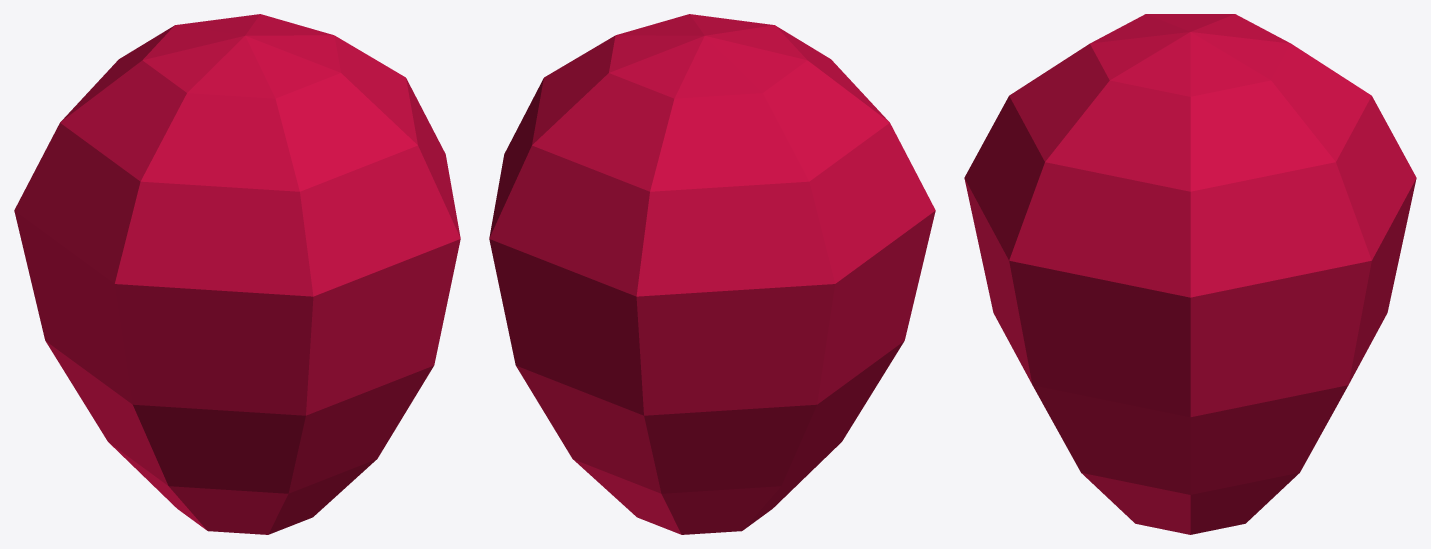
The model's file is bloon2.fbx.
3 views of the same model, side by side, from view 1: azimuth 30°, elevation 25°; view 2: azimuth 150°, elevation 25°; view 3: azimuth 270°, elevation 25° (orthographic).
Visible parts, largest first — view 1: pSphere11; view 2: pSphere11; view 3: pSphere11.
Boxes of the visible parts, left/top/right/bottom form: pSphere11: left=14, top=14, right=460, bottom=534; pSphere11: left=489, top=14, right=935, bottom=534; pSphere11: left=964, top=14, right=1416, bottom=534.
Size of the model in its own units: 1.4 by 1.75 by 1.44.
